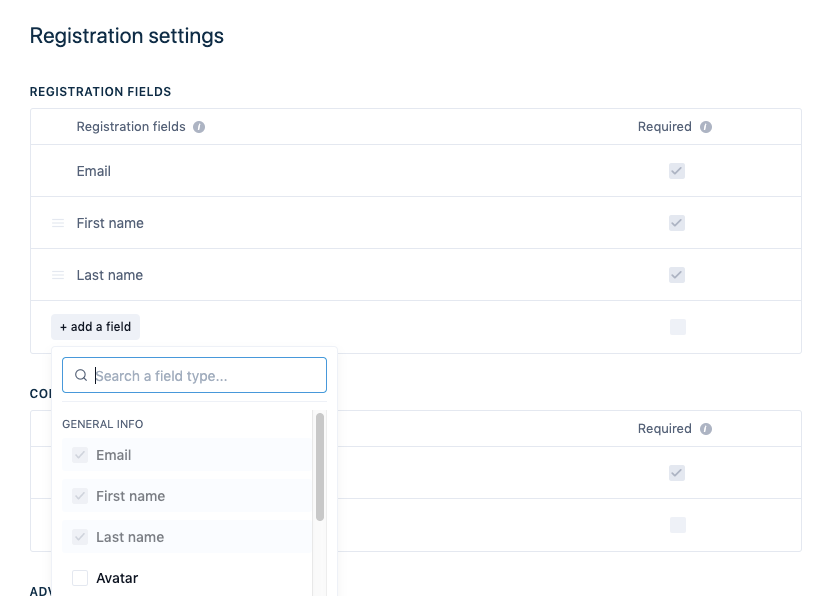Button: (46, 314, 147, 341)
CheckBox: (665, 313, 695, 342), (68, 571, 97, 592), (667, 213, 694, 234), (667, 161, 693, 181), (69, 445, 93, 466), (665, 461, 687, 483), (669, 266, 689, 283)
